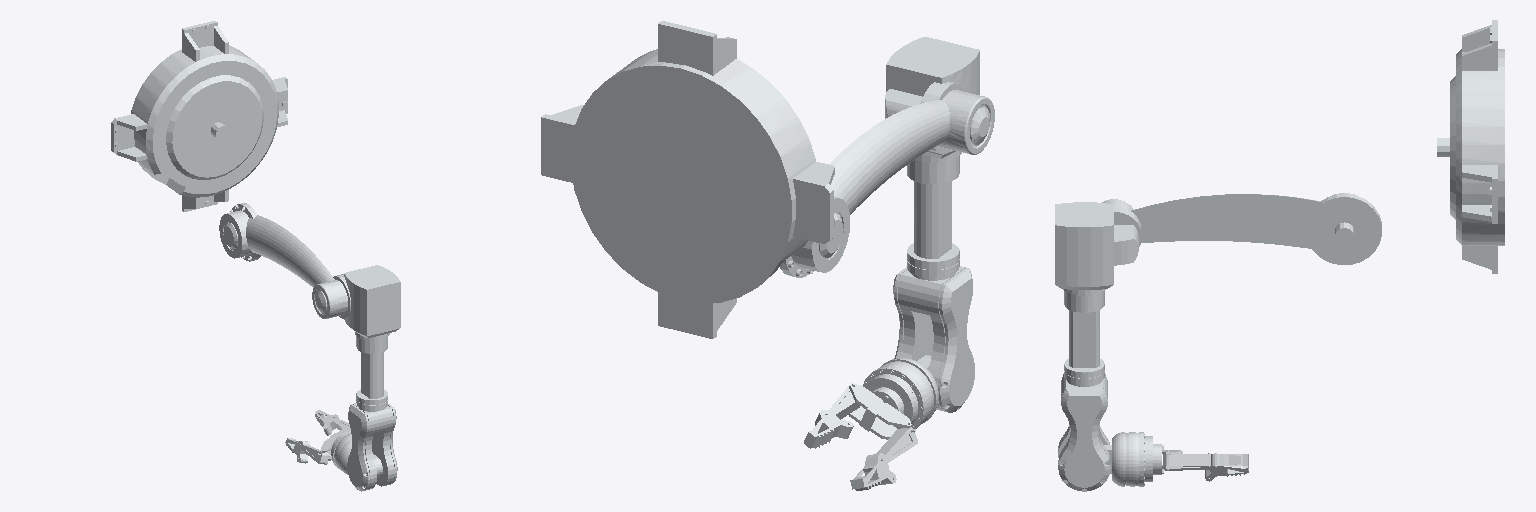
The robot description file, URDF, robot "Robot Arm10":
<?xml version="1.0" encoding="utf-8"?>
<!-- This URDF was automatically created by SolidWorks to URDF Exporter! Originally created by [author] ([email redacted]) 
     Commit Version: 1.6.0-4-g7f85cfe  Build Version: 1.6.7995.38578
     For more information, please see http://wiki.ros.org/sw_urdf_exporter -->
<robot
  name="Robot Arm10">
  <link
    name="base_link">
    <inertial>
      <origin
        xyz="0.00144768706616355 0.00143124852362658 0.0390674660224859"
        rpy="0 0 0" />
      <mass
        value="15.5251833116931" />
      <inertia
        ixx="0.0974898978613808"
        ixy="0.00215958592945114"
        ixz="-9.73687130849532E-05"
        iyy="0.0974415680905807"
        iyz="-0.000103511004452389"
        izz="0.178292945398034" />
    </inertial>
    <visual>
      <origin
        xyz="0 0 0"
        rpy="0 0 0" />
      <geometry>
        <mesh
          filename="package://Robot Arm10/meshes/base_link.STL" />
      </geometry>
      <material
        name="">
        <color
          rgba="0.898039215686275 0.917647058823529 0.929411764705882 1" />
      </material>
    </visual>
    <collision>
      <origin
        xyz="0 0 0"
        rpy="0 0 0" />
      <geometry>
        <mesh
          filename="package://Robot Arm10/meshes/base_link.STL" />
      </geometry>
    </collision>
  </link>
  <link
    name="link1">
    <inertial>
      <origin
        xyz="0.0569765063353773 0.00270673982910415 0.166849893780178"
        rpy="0 0 0" />
      <mass
        value="6.22055201842844" />
      <inertia
        ixx="0.032143026138401"
        ixy="-0.00124090972695475"
        ixz="-0.0244216094592873"
        iyy="0.0639994149884094"
        iyz="-0.00108797206479575"
        izz="0.0436769339698879" />
    </inertial>
    <visual>
      <origin
        xyz="0 0 0"
        rpy="0 0 0" />
      <geometry>
        <mesh
          filename="package://Robot Arm10/meshes/link1.STL" />
      </geometry>
      <material
        name="">
        <color
          rgba="0.898039215686275 0.917647058823529 0.929411764705882 1" />
      </material>
    </visual>
    <collision>
      <origin
        xyz="0 0 0"
        rpy="0 0 0" />
      <geometry>
        <mesh
          filename="package://Robot Arm10/meshes/link1.STL" />
      </geometry>
    </collision>
  </link>
  <joint
    name="joint0"
    type="continuous">
    <origin
      xyz="0 0 0"
      rpy="1.5708 1.5708 0" />
    <parent
      link="base_link" />
    <child
      link="link1" />
    <axis
      xyz="0 0 1" />
  </joint>
  <link
    name="link2">
    <inertial>
      <origin
        xyz="-0.0353110730906479 0.00812047588913301 0.140182843002606"
        rpy="0 0 0" />
      <mass
        value="2.46910484410219" />
      <inertia
        ixx="0.0481792917477871"
        ixy="-8.39426484904716E-05"
        ixz="-0.000215770113216657"
        iyy="0.0472802430834299"
        iyz="-0.000467320608725399"
        izz="0.00164580689436975" />
    </inertial>
    <visual>
      <origin
        xyz="0 0 0"
        rpy="0 0 0" />
      <geometry>
        <mesh
          filename="package://Robot Arm10/meshes/link2.STL" />
      </geometry>
      <material
        name="">
        <color
          rgba="0.898039215686275 0.917647058823529 0.929411764705882 1" />
      </material>
    </visual>
    <collision>
      <origin
        xyz="0 0 0"
        rpy="0 0 0" />
      <geometry>
        <mesh
          filename="package://Robot Arm10/meshes/link2.STL" />
      </geometry>
    </collision>
  </link>
  <joint
    name="joint1"
    type="revolute">
    <origin
      xyz="0.15 0 0.244"
      rpy="0 0 1.5708" />
    <parent
      link="link1" />
    <child
      link="link2" />
    <axis
      xyz="1 0 0" />
    <limit
      lower="0"
      upper="0"
      effort="0"
      velocity="0" />
  </joint>
  <link
    name="link3">
    <inertial>
      <origin
        xyz="0.0346150099241614 0.0261599585531351 0.0385370325612424"
        rpy="0 0 0" />
      <mass
        value="3.4902467058445" />
      <inertia
        ixx="0.00476815328736596"
        ixy="-0.000222298208238949"
        ixz="-0.000780820426061057"
        iyy="0.0179533453502193"
        iyz="-0.000333779552471874"
        izz="0.0169017321598886" />
    </inertial>
    <visual>
      <origin
        xyz="0 0 0"
        rpy="0 0 0" />
      <geometry>
        <mesh
          filename="package://Robot Arm10/meshes/link3.STL" />
      </geometry>
      <material
        name="">
        <color
          rgba="0.898039215686275 0.917647058823529 0.929411764705882 1" />
      </material>
    </visual>
    <collision>
      <origin
        xyz="0 0 0"
        rpy="0 0 0" />
      <geometry>
        <mesh
          filename="package://Robot Arm10/meshes/link3.STL" />
      </geometry>
    </collision>
  </link>
  <joint
    name="joint2"
    type="revolute">
    <origin
      xyz="0 0 0.35"
      rpy="0 0 -1.5708" />
    <parent
      link="link2" />
    <child
      link="link3" />
    <axis
      xyz="0 -1 0" />
    <limit
      lower="0"
      upper="0"
      effort="0"
      velocity="0" />
  </joint>
  <link
    name="link4">
    <inertial>
      <origin
        xyz="-0.0583464412050315 -0.00249999999999999 -1.11022302462516E-16"
        rpy="0 0 0" />
      <mass
        value="1.64450582321899" />
      <inertia
        ixx="0.0015115843982476"
        ixy="-2.77693678065215E-20"
        ixz="-1.07305883373308E-19"
        iyy="0.00532602138543279"
        iyz="-2.91216193666256E-11"
        izz="0.00576177470136042" />
    </inertial>
    <visual>
      <origin
        xyz="0 0 0"
        rpy="0 0 0" />
      <geometry>
        <mesh
          filename="package://Robot Arm10/meshes/link4.STL" />
      </geometry>
      <material
        name="">
        <color
          rgba="0.898039215686275 0.917647058823529 0.929411764705882 1" />
      </material>
    </visual>
    <collision>
      <origin
        xyz="0 0 0"
        rpy="0 0 0" />
      <geometry>
        <mesh
          filename="package://Robot Arm10/meshes/link4.STL" />
      </geometry>
    </collision>
  </link>
  <joint
    name="joint3"
    type="revolute">
    <origin
      xyz="0.359 0.0305 0.045"
      rpy="0 0 0" />
    <parent
      link="link3" />
    <child
      link="link4" />
    <axis
      xyz="-1 0 0" />
    <limit
      lower="0"
      upper="0"
      effort="0"
      velocity="0" />
  </joint>
  <link
    name="link5">
    <inertial>
      <origin
        xyz="-1.38777878078145E-17 -1.11022302462516E-16 0.0594774223237491"
        rpy="0 0 0" />
      <mass
        value="0.857437810056887" />
      <inertia
        ixx="0.000889158537287788"
        ixy="-4.99022553916756E-21"
        ixz="6.86633710596328E-20"
        iyy="0.000881358882312492"
        iyz="1.9926722916248E-19"
        izz="0.000599180291395537" />
    </inertial>
    <visual>
      <origin
        xyz="0 0 0"
        rpy="0 0 0" />
      <geometry>
        <mesh
          filename="package://Robot Arm10/meshes/link5.STL" />
      </geometry>
      <material
        name="">
        <color
          rgba="0.898039215686275 0.917647058823529 0.929411764705882 1" />
      </material>
    </visual>
    <collision>
      <origin
        xyz="0 0 0"
        rpy="0 0 0" />
      <geometry>
        <mesh
          filename="package://Robot Arm10/meshes/link5.STL" />
      </geometry>
    </collision>
  </link>
  <joint
    name="joint4"
    type="revolute">
    <origin
      xyz="0 0 0"
      rpy="3.1416 0 -1.5708" />
    <parent
      link="link4" />
    <child
      link="link5" />
    <axis
      xyz="1 0 0" />
    <limit
      lower="0"
      upper="0"
      effort="0"
      velocity="0" />
  </joint>
  <link
    name="link6">
    <inertial>
      <origin
        xyz="-1.00613961606655E-16 -1.11022302462516E-16 0.110284466974595"
        rpy="0 0 0" />
      <mass
        value="0.206343785625116" />
      <inertia
        ixx="8.89328482957938E-05"
        ixy="5.90811487251253E-06"
        ixz="6.55096333091908E-21"
        iyy="0.000100259292461914"
        iyz="-6.19496994574043E-21"
        izz="0.000108455430202857" />
    </inertial>
    <visual>
      <origin
        xyz="0 0 0"
        rpy="0 0 0" />
      <geometry>
        <mesh
          filename="package://Robot Arm10/meshes/link6.STL" />
      </geometry>
      <material
        name="">
        <color
          rgba="0.898039215686275 0.917647058823529 0.929411764705882 1" />
      </material>
    </visual>
    <collision>
      <origin
        xyz="0 0 0"
        rpy="0 0 0" />
      <geometry>
        <mesh
          filename="package://Robot Arm10/meshes/link6.STL" />
      </geometry>
    </collision>
  </link>
  <joint
    name="joint5"
    type="revolute">
    <origin
      xyz="0 0 0"
      rpy="0 0 0" />
    <parent
      link="link5" />
    <child
      link="link6" />
    <axis
      xyz="0 0 1" />
    <limit
      lower="0"
      upper="0"
      effort="0"
      velocity="0" />
  </joint>
  <link
    name="link7">
    <inertial>
      <origin
        xyz="0 5.55111512312578E-17 -5.55111512312578E-17"
        rpy="0 0 0" />
      <mass
        value="0.000631931362269587" />
      <inertia
        ixx="5.50139899358605E-08"
        ixy="8.06094873318595E-24"
        ixz="-8.61411098540761E-24"
        iyy="2.90680619194976E-08"
        iyz="2.70678989710014E-08"
        izz="2.67756030012219E-08" />
    </inertial>
    <visual>
      <origin
        xyz="0 0 0"
        rpy="0 0 0" />
      <geometry>
        <mesh
          filename="package://Robot Arm10/meshes/link7.STL" />
      </geometry>
      <material
        name="">
        <color
          rgba="0.898039215686275 0.917647058823529 0.929411764705882 1" />
      </material>
    </visual>
    <collision>
      <origin
        xyz="0 0 0"
        rpy="0 0 0" />
      <geometry>
        <mesh
          filename="package://Robot Arm10/meshes/link7.STL" />
      </geometry>
    </collision>
  </link>
  <joint
    name="joint7"
    type="fixed">
    <origin
      xyz="0.037536 -0.016015 0.12689"
      rpy="2.7383 -1.5708 0" />
    <parent
      link="link6" />
    <child
      link="link7" />
    <axis
      xyz="0 0 0" />
  </joint>
  <link
    name="left_link7">
    <inertial>
      <origin
        xyz="0 0.013175571453953 -0.0594553025136269"
        rpy="0 0 0" />
      <mass
        value="0.105556079440397" />
      <inertia
        ixx="0.000132582987027864"
        ixy="5.28660873505766E-19"
        ixz="1.46462578720749E-19"
        iyy="1.94402994680117E-05"
        iyz="-3.30911547200369E-05"
        izz="0.000118730051337358" />
    </inertial>
    <visual>
      <origin
        xyz="0 0 0"
        rpy="0 0 0" />
      <geometry>
        <mesh
          filename="package://Robot Arm10/meshes/left_link7.STL" />
      </geometry>
      <material
        name="">
        <color
          rgba="0.898039215686275 0.917647058823529 0.929411764705882 1" />
      </material>
    </visual>
    <collision>
      <origin
        xyz="0 0 0"
        rpy="0 0 0" />
      <geometry>
        <mesh
          filename="package://Robot Arm10/meshes/left_link7.STL" />
      </geometry>
    </collision>
  </link>
  <joint
    name="left_joint7"
    type="fixed">
    <origin
      xyz="0.0574240579883317 -0.0340058166095279 -0.0325962672918831"
      rpy="2.99853772805125 -0.806558746430987 -1.57079632679489" />
    <parent
      link="link7" />
    <child
      link="left_link7" />
    <axis
      xyz="0 0 0" />
  </joint>
  <link
    name="link8">
    <inertial>
      <origin
        xyz="0 -1.66533453693773E-16 0"
        rpy="0 0 0" />
      <mass
        value="0.000631931362269589" />
      <inertia
        ixx="5.50139899358611E-08"
        ixy="4.31628510296209E-23"
        ixz="-8.27180612553028E-25"
        iyy="8.29674984858991E-10"
        iyz="3.73644794077398E-24"
        izz="5.50139899358611E-08" />
    </inertial>
    <visual>
      <origin
        xyz="0 0 0"
        rpy="0 0 0" />
      <geometry>
        <mesh
          filename="package://Robot Arm10/meshes/link8.STL" />
      </geometry>
      <material
        name="">
        <color
          rgba="0.898039215686275 0.917647058823529 0.929411764705882 1" />
      </material>
    </visual>
    <collision>
      <origin
        xyz="0 0 0"
        rpy="0 0 0" />
      <geometry>
        <mesh
          filename="package://Robot Arm10/meshes/link8.STL" />
      </geometry>
    </collision>
  </link>
  <joint
    name="joint8"
    type="continuous">
    <origin
      xyz="-0.0375357311241128 0.0160151517277266 0.126892057511395"
      rpy="3.14159265358979 -0.268246487292674 2.7383132803743" />
    <parent
      link="link6" />
    <child
      link="link8" />
    <axis
      xyz="0 1 0" />
  </joint>
  <link
    name="rigth_link8">
    <inertial>
      <origin
        xyz="-5.55111512312578E-17 0.0131755714539538 -0.0594553025136279"
        rpy="0 0 0" />
      <mass
        value="0.105556079440396" />
      <inertia
        ixx="0.000132582987027864"
        ixy="-2.01383631549643E-19"
        ixz="-5.88044729071066E-20"
        iyy="1.94402994680118E-05"
        iyz="-3.30911547200371E-05"
        izz="0.000118730051337358" />
    </inertial>
    <visual>
      <origin
        xyz="0 0 0"
        rpy="0 0 0" />
      <geometry>
        <mesh
          filename="package://Robot Arm10/meshes/rigth_link8.STL" />
      </geometry>
      <material
        name="">
        <color
          rgba="0.898039215686275 0.917647058823529 0.929411764705882 1" />
      </material>
    </visual>
    <collision>
      <origin
        xyz="0 0 0"
        rpy="0 0 0" />
      <geometry>
        <mesh
          filename="package://Robot Arm10/meshes/rigth_link8.STL" />
      </geometry>
    </collision>
  </link>
  <joint
    name="rigth_joint8"
    type="fixed">
    <origin
      xyz="0.0606404414163301 0 -0.0428855629007189"
      rpy="1.15949491396363 0 1.5707963267949" />
    <parent
      link="link8" />
    <child
      link="rigth_link8" />
    <axis
      xyz="0 0 0" />
  </joint>
</robot>

--- Facts derived from the render (not from the file) ---
Views: 3 orthographic renders of the robot side by side, from view 1: azimuth 30°, elevation 25°; view 2: azimuth 150°, elevation 25°; view 3: azimuth 270°, elevation 25°.
Model Robot Arm10 with 11 links and 10 joints (5 revolute, 2 continuous, 3 fixed), rooted at base_link, posed every joint at zero.
Visible links, largest first — view 1: base_link, link3, link2, link4, link5, left_link7; view 2: base_link, link2, link3, link4, link6, link5, left_link7, rigth_link8; view 3: link2, base_link, link3, link4, link5, rigth_link8, link6, left_link7.
Boxes of the visible links, left/top/right/bottom form: base_link: left=111, top=21, right=287, bottom=211; link3: left=333, top=265, right=400, bottom=409; link2: left=219, top=203, right=347, bottom=318; link4: left=347, top=403, right=397, bottom=491; link5: left=331, top=431, right=382, bottom=476; left_link7: left=285, top=438, right=328, bottom=464; base_link: left=541, top=21, right=834, bottom=338; link2: left=780, top=90, right=994, bottom=277; link3: left=885, top=37, right=979, bottom=277; link4: left=893, top=266, right=974, bottom=412; link6: left=849, top=375, right=916, bottom=439; link5: left=863, top=355, right=938, bottom=428; left_link7: left=850, top=427, right=917, bottom=490; rigth_link8: left=804, top=385, right=859, bottom=448; link2: left=1102, top=193, right=1381, bottom=264; base_link: left=1437, top=20, right=1504, bottom=273; link3: left=1055, top=202, right=1141, bottom=384; link4: left=1058, top=374, right=1110, bottom=491; link5: left=1104, top=432, right=1145, bottom=486; rigth_link8: left=1163, top=453, right=1248, bottom=466; link6: left=1146, top=436, right=1182, bottom=481; left_link7: left=1164, top=466, right=1248, bottom=481.
Size in the robot's own frame: 0.3905 by 0.684 by 0.7616 metres.
10 mesh visuals loaded from 11 distinct referenced files (10 binary STL); not drawn: 1 (reference not matched to a file when rendering).